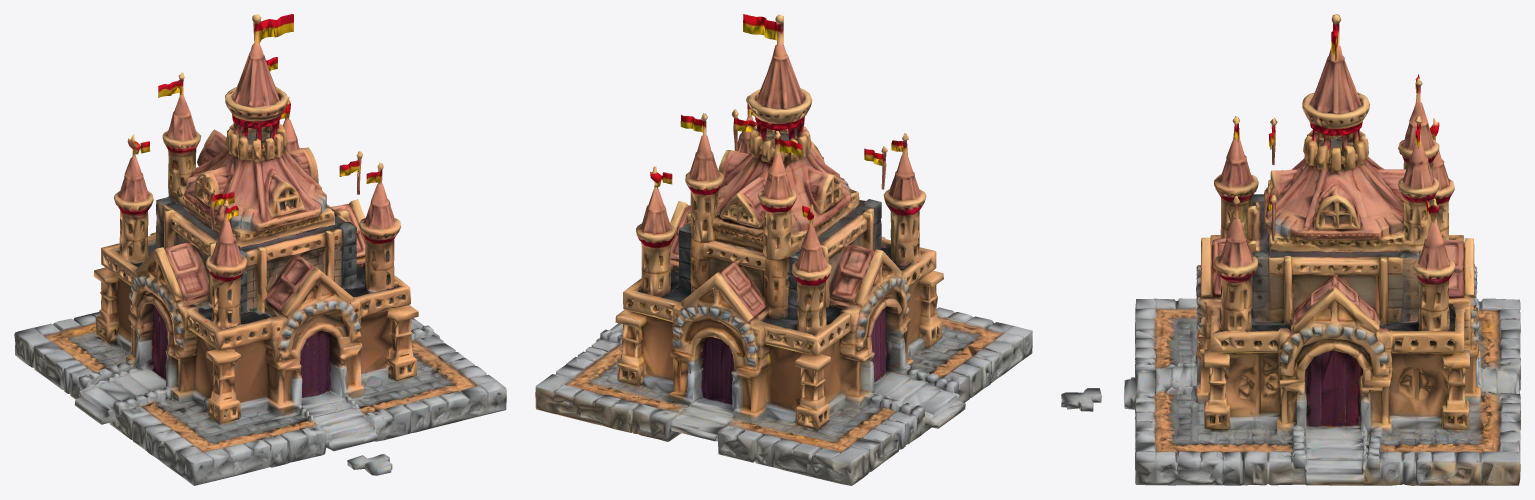
File: townhall.glb
The picture shows the model from 3 angles, left to right: view 1: azimuth 30°, elevation 25°; view 2: azimuth 150°, elevation 25°; view 3: azimuth 270°, elevation 25°; orthographic projection. The views are drawn at different scales.
Bounding box in the file's own units: 1.73 × 1.78 × 1.9.
Materials: 1 (1 with a texture image).
